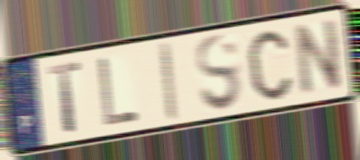C: (246, 27, 294, 103)
I: (157, 39, 180, 125)
L: (96, 54, 141, 129)
N: (294, 15, 344, 99)
S: (194, 31, 244, 115)
T: (46, 59, 84, 135)
